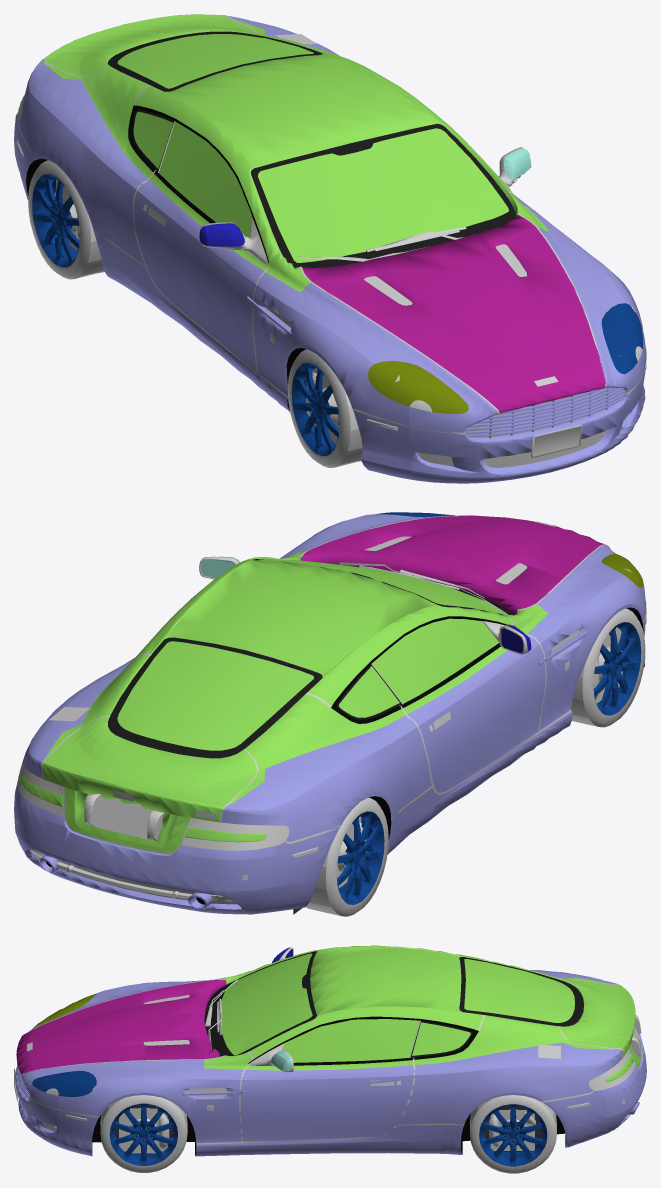
The model's file is 阿斯顿马丁.obj.
The picture shows the model from 3 angles, top to bottom: view 1: azimuth 30°, elevation 25°; view 2: azimuth 150°, elevation 25°; view 3: azimuth 270°, elevation 25°; orthographic projection. The views are drawn at different scales.
Parts seen in each view (by area): view 1: Base, Body, Hood, TireFR, TireRR, HLightRG, HLightLG, MirrorR, License, MirrorL; view 2: Base, Body, Hood, TireRR, TireFR, BLightR, BLightL, MirrorR, MirrorL, HLightRG; view 3: Body, Base, Hood, TireRL, TireFL, HLightLG, BrakeFL, BrakeRL, MirrorL, BLightL, HLightRG.
Boxes of the visible parts, left/top/right/bottom form: Base: left=20, top=14, right=548, bottom=291; Body: left=14, top=15, right=646, bottom=483; Hood: left=302, top=214, right=605, bottom=412; TireFR: left=287, top=349, right=362, bottom=467; TireRR: left=28, top=160, right=104, bottom=279; HLightRG: left=368, top=361, right=468, bottom=413; HLightLG: left=601, top=303, right=642, bottom=374; MirrorR: left=199, top=217, right=268, bottom=263; License: left=531, top=424, right=582, bottom=457; MirrorL: left=499, top=147, right=531, bottom=191; Base: left=20, top=550, right=548, bottom=852; Body: left=14, top=514, right=646, bottom=914; Hood: left=300, top=515, right=604, bottom=614; TireRR: left=293, top=797, right=388, bottom=916; TireFR: left=571, top=608, right=645, bottom=727; BLightR: left=181, top=818, right=289, bottom=850; BLightL: left=17, top=762, right=63, bottom=816; MirrorR: left=484, top=621, right=531, bottom=654; MirrorL: left=199, top=556, right=240, bottom=579; HLightRG: left=601, top=553, right=642, bottom=587; Body: left=15, top=959, right=646, bottom=1156; Base: left=204, top=945, right=641, bottom=1082; Hood: left=16, top=980, right=226, bottom=1074; TireRL: left=469, top=1095, right=556, bottom=1173; TireFL: left=100, top=1095, right=187, bottom=1172; HLightLG: left=32, top=1071, right=96, bottom=1096; BrakeFL: left=119, top=1108, right=169, bottom=1153; BrakeRL: left=488, top=1109, right=535, bottom=1150; MirrorL: left=249, top=1043, right=293, bottom=1072; BLightL: left=589, top=1049, right=635, bottom=1090; HLightRG: left=33, top=993, right=96, bottom=1028.
Bounding box in the file's own units: 51.22 × 31.45 × 120.
